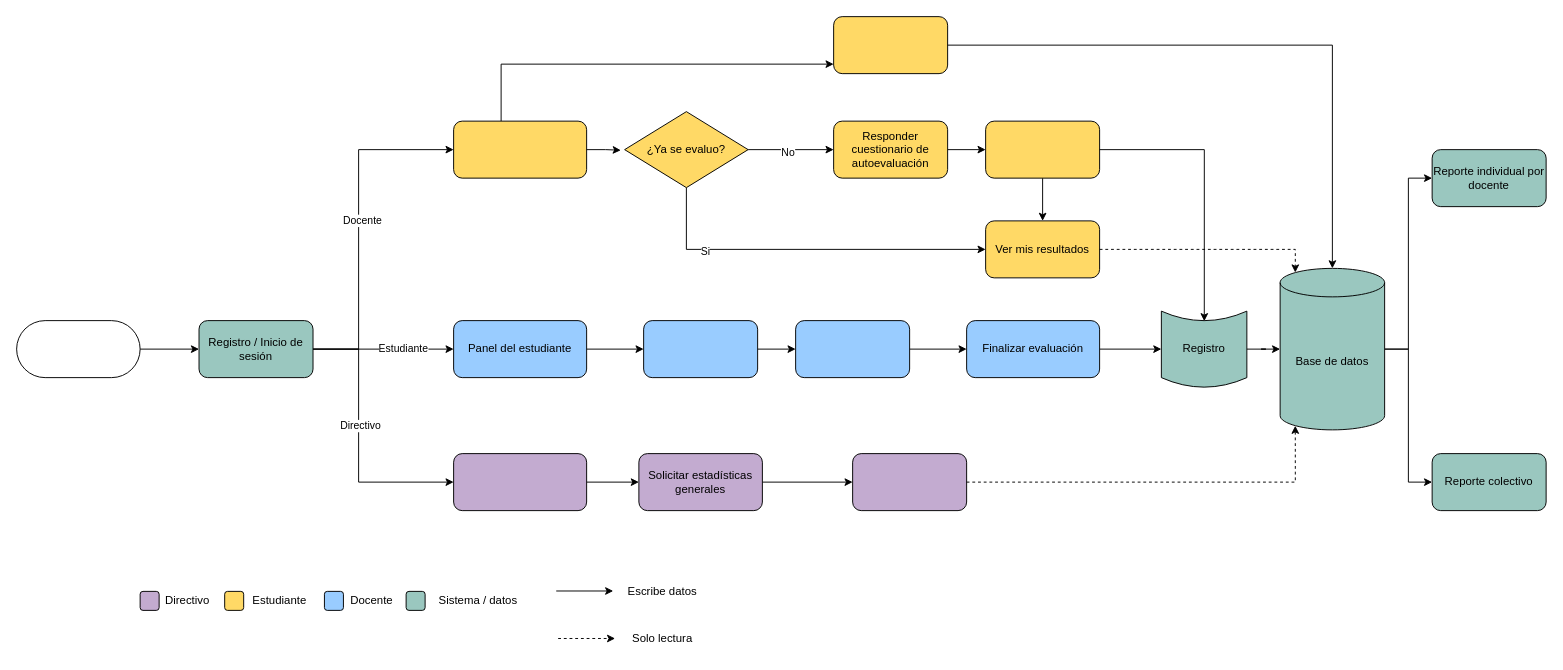
The diagram is 1563 pixels wide and 670 high, and some of its shapes have lost their labels. The shapes that lost their labels are listed below. From the top down, each one's box as (x1, y1, x2, y2) in pixels, then its label:
(833, 16, 948, 74): Gestionar planes de mejoras
(453, 120, 587, 178): Panel del docente
(985, 120, 1100, 178): Enviar autoevaluación
(16, 320, 140, 378): Inicio
(643, 320, 758, 378): Realizar cuestionario docente
(795, 320, 910, 378): Autoguardado automatico por pregunta
(453, 453, 587, 511): Panel del directivo
(852, 453, 967, 511): Lectura de Estadísticas generales y analisis
